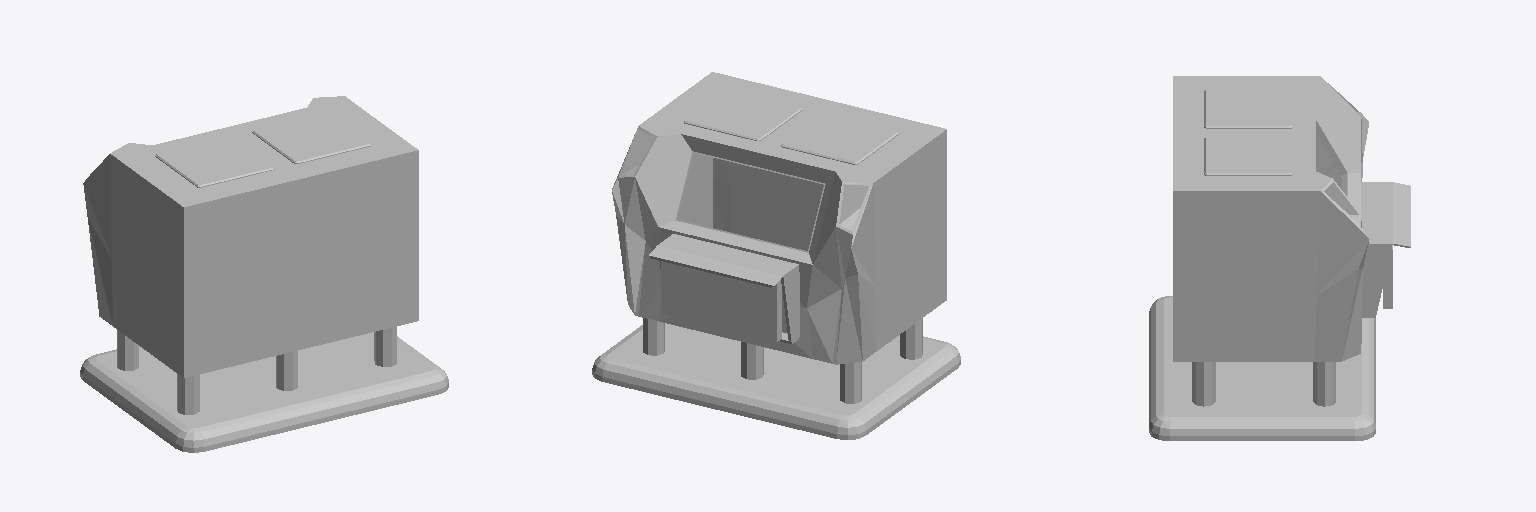
Rendered from baseModules1.obj.
3 views of the same model, side by side, from view 1: azimuth 30°, elevation 25°; view 2: azimuth 150°, elevation 25°; view 3: azimuth 270°, elevation 25° (orthographic).
Parts seen in each view (by area): view 1: Cube_Cube.004, Cutter, Circle, Circle.001; view 2: Cube_Cube.004, Cutter, Cutter.002, Cube.001_Cube, Circle.001, Cutter.001, Circle; view 3: Cube_Cube.004, Cutter, Cube.001_Cube, Circle, Circle.001.
Boxes of the visible parts, box(x1,y1,x2,y2) form: Cube_Cube.004: box(83, 96, 418, 377); Cutter: box(80, 332, 448, 452); Circle: box(177, 326, 396, 414); Circle.001: box(117, 330, 138, 370); Cube_Cube.004: box(612, 72, 946, 364); Cutter: box(592, 323, 960, 439); Cutter.002: box(661, 261, 781, 341); Cube.001_Cube: box(649, 234, 799, 343); Circle.001: box(643, 318, 861, 403); Cutter.001: box(785, 113, 898, 164); Circle: box(900, 318, 922, 359); Cube_Cube.004: box(1173, 76, 1368, 361); Cutter: box(1149, 296, 1375, 440); Cube.001_Cube: box(1361, 182, 1410, 317); Circle: box(1192, 362, 1215, 406); Circle.001: box(1313, 362, 1335, 406).
Bounding box in the file's own units: 5.3 × 4.51 × 4.44.